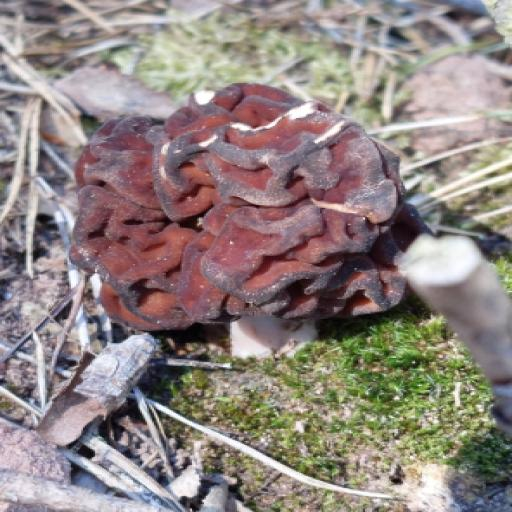False Morel: (79, 78, 408, 361)
